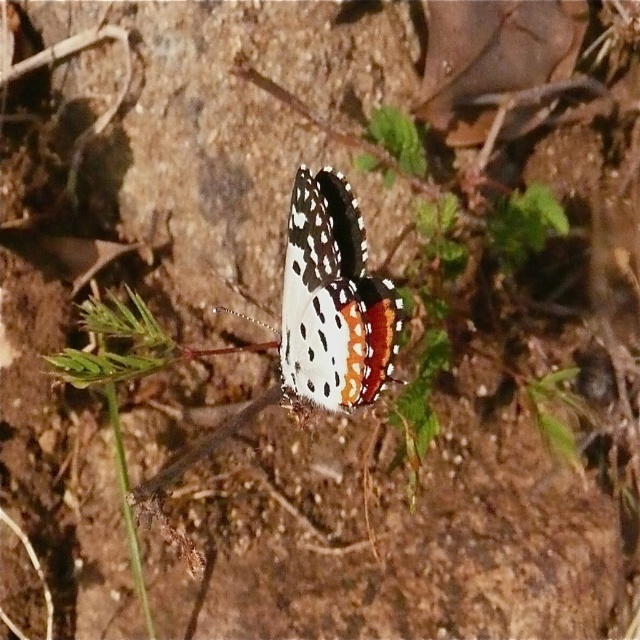Butterfly: (271, 149, 404, 438)
